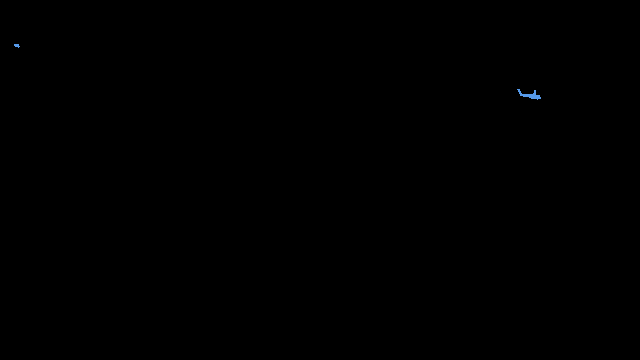Airplane: (517, 89, 540, 100), (14, 44, 19, 48)
